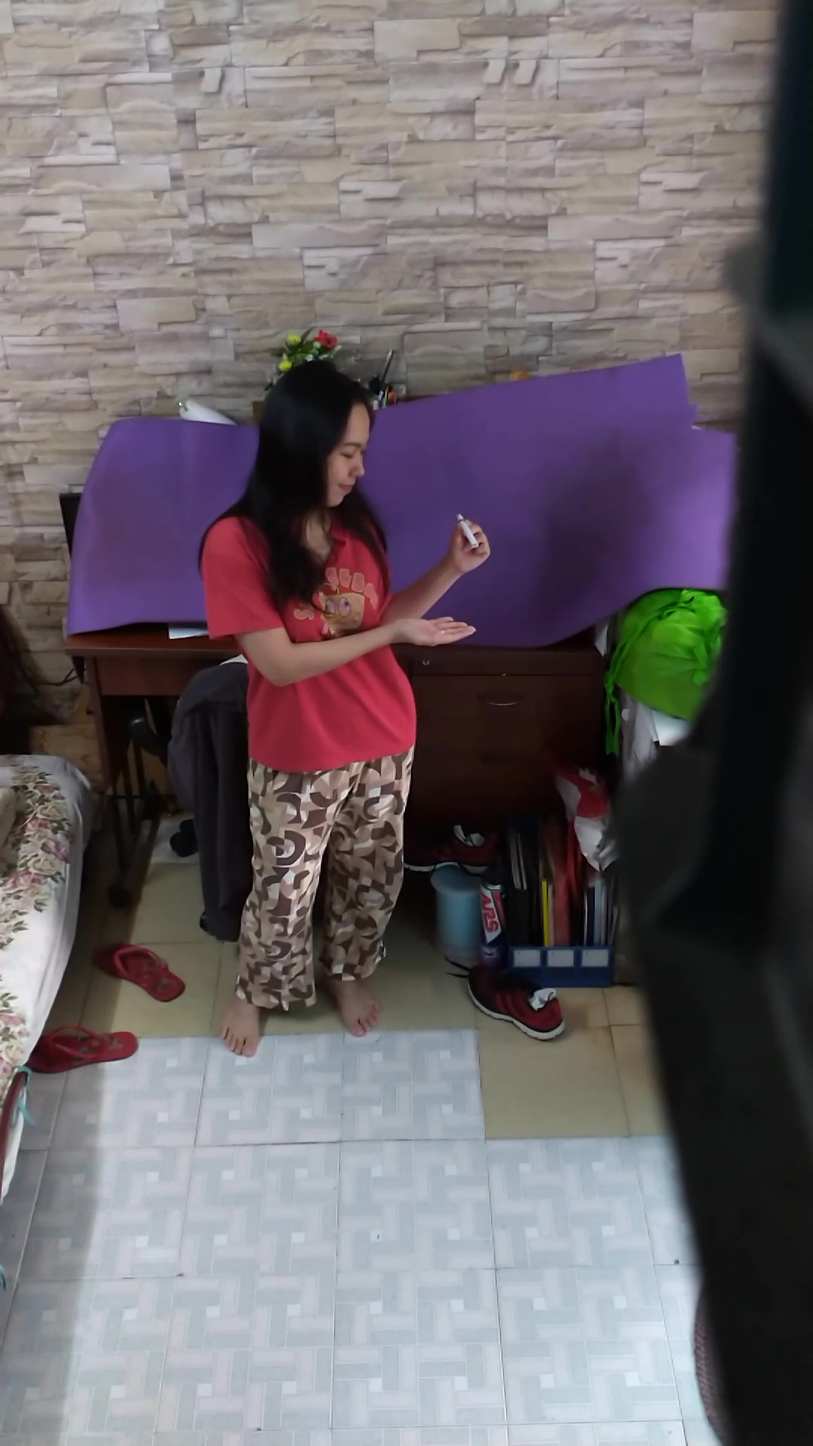cigarette: (452, 510, 480, 551)
person: (191, 345, 490, 1075)
